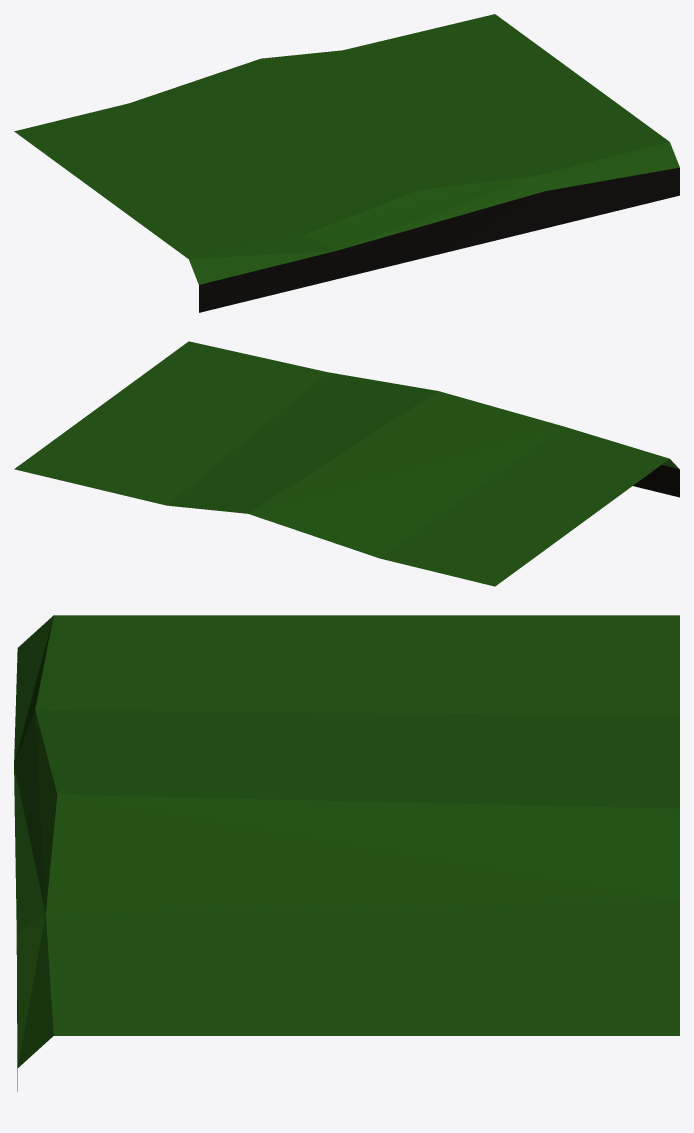
Rendered from 2D_Island_Top_2A.fbx.
3 views of the same model, one above another, from view 1: azimuth 30°, elevation 25°; view 2: azimuth 150°, elevation 25°; view 3: azimuth 270°, elevation 25° (orthographic). The views are drawn at different scales.
Parts seen in each view (by area): view 1: 2D_Island_Top_2A; view 2: 2D_Island_Top_2A; view 3: 2D_Island_Top_2A.
Boxes of the visible parts, bbox=[...] form: 2D_Island_Top_2A: bbox=[14, 14, 679, 312]; 2D_Island_Top_2A: bbox=[14, 341, 679, 586]; 2D_Island_Top_2A: bbox=[14, 615, 679, 1091].
Size of the model in its own units: 1303 by 152 by 872.
